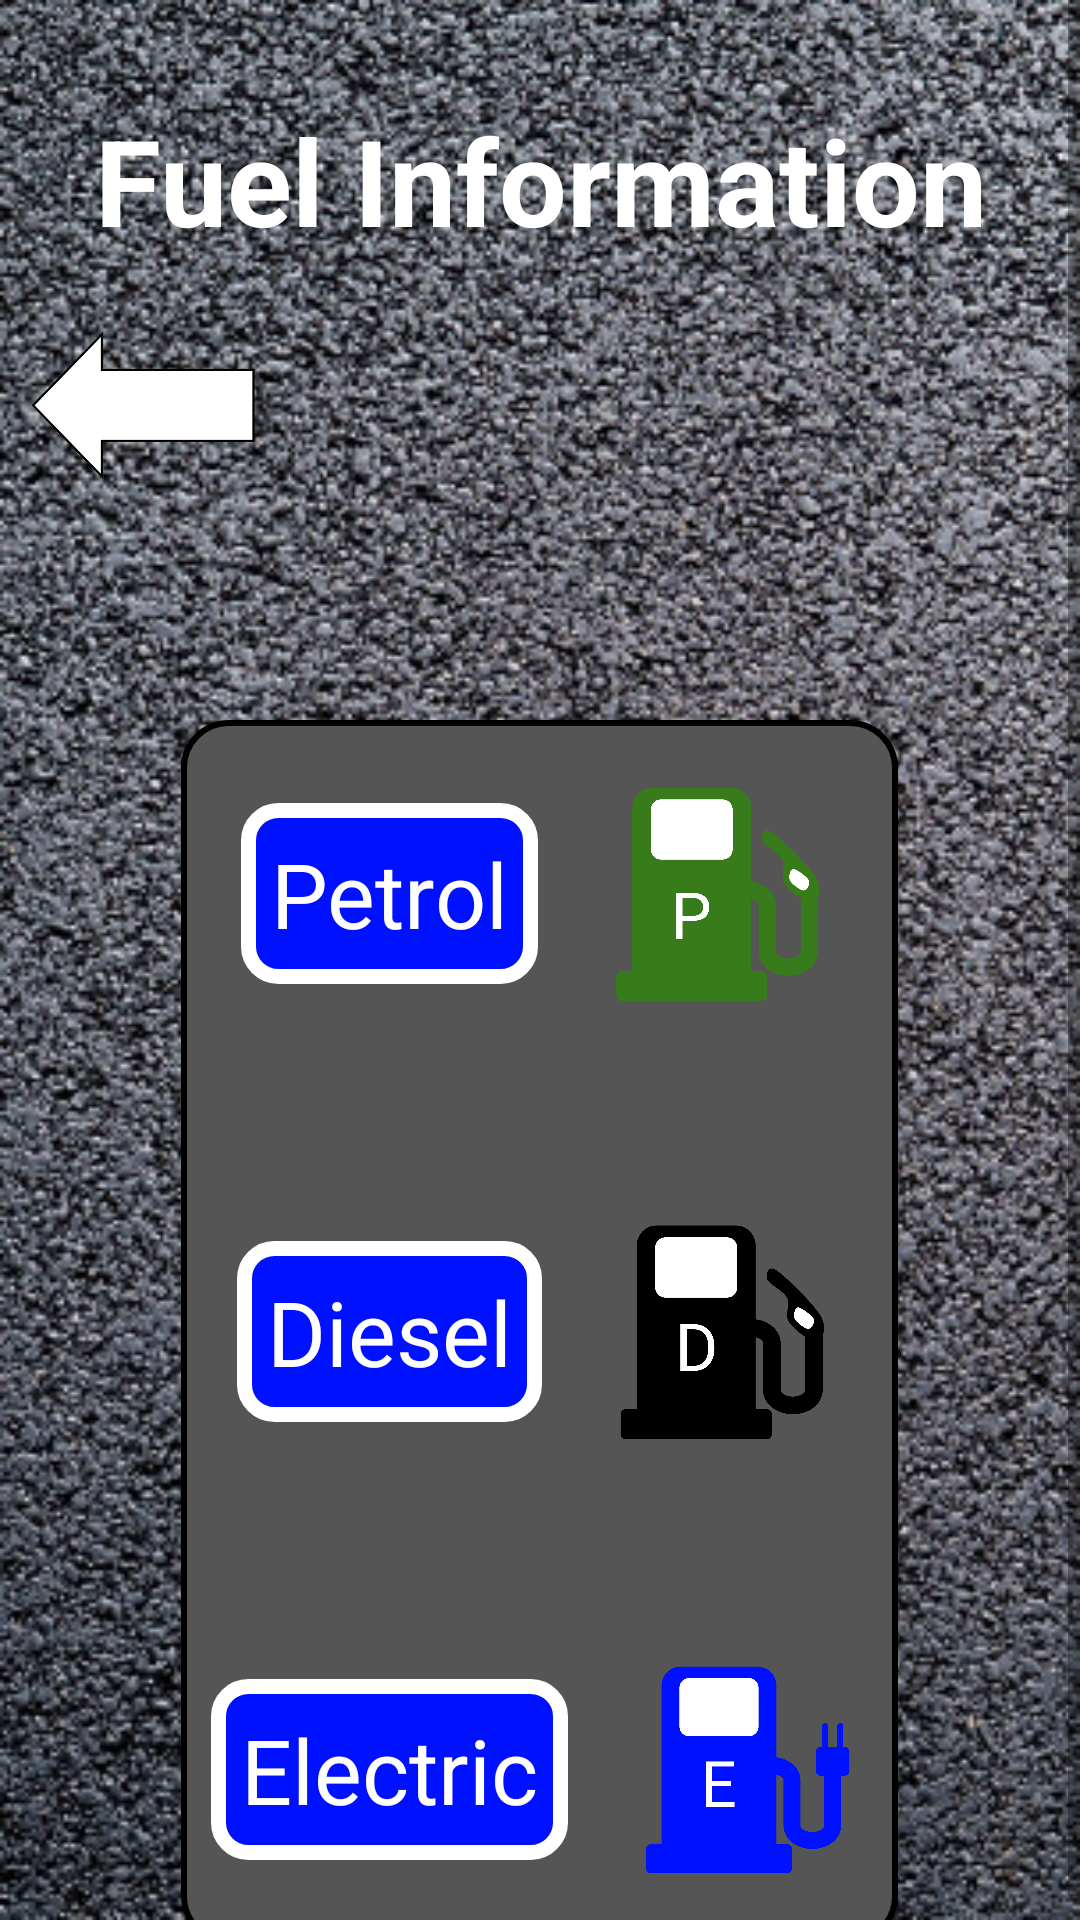

Named icons in this screenshot (1080*1920) and their centers, [x,y]:
Tap to go back: [142,405]
